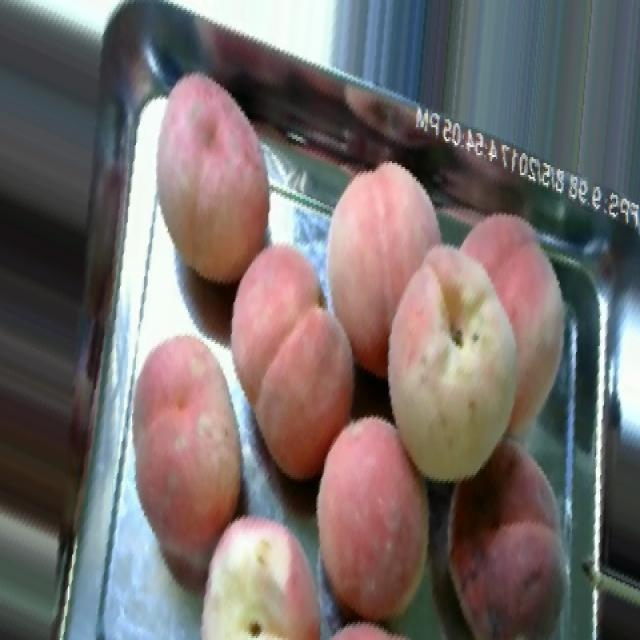Fruit: (364, 209, 541, 507), (102, 316, 266, 596), (130, 54, 290, 306), (422, 423, 602, 640), (232, 228, 377, 497), (301, 395, 455, 640), (317, 143, 459, 364), (178, 497, 318, 640)
